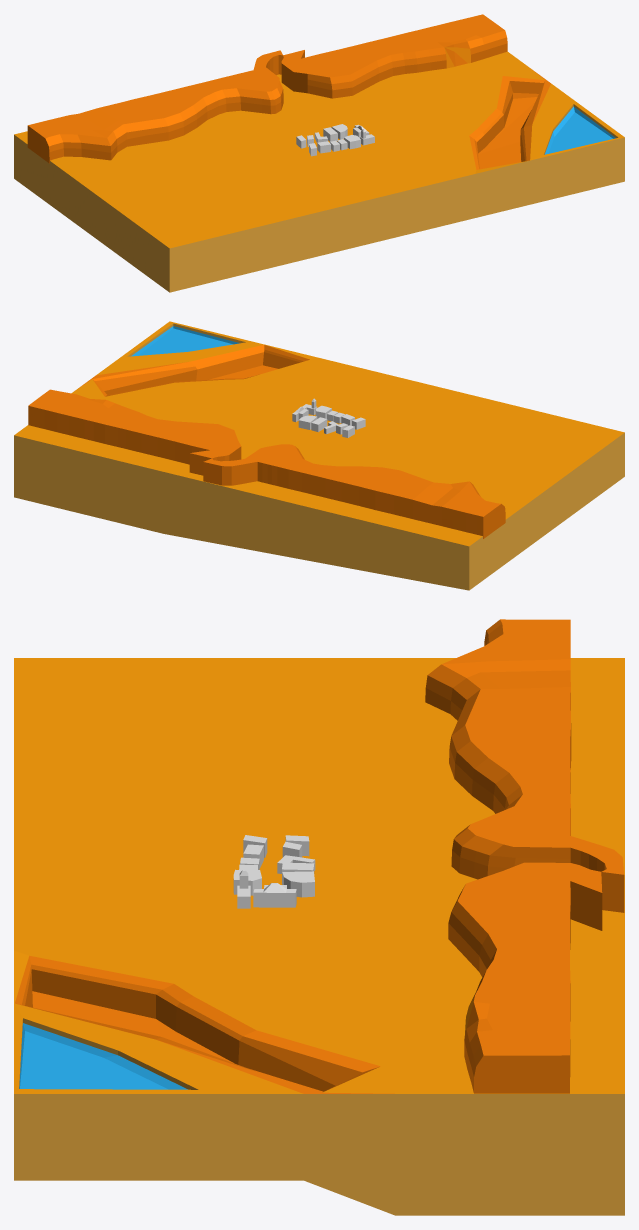
Rendered from MapMildWest 1.fbx.
3 views of the same model, one above another, from view 1: azimuth 30°, elevation 25°; view 2: azimuth 150°, elevation 25°; view 3: azimuth 270°, elevation 25° (orthographic). The views are drawn at different scales.
Parts seen in each view (by area): view 1: Plane.001, Cube.001, Cube; view 2: Plane.001, Cube.001, Cube; view 3: Plane.001, Cube.001, Cube.
Part boxes in pixels (x1,y1,x2,y2): Plane.001: (14,51,624,292); Cube.001: (27,14,507,163); Cube: (296,124,374,156); Plane.001: (14,321,624,590); Cube.001: (28,389,505,538); Cube: (292,398,365,437); Plane.001: (14,658,624,1215); Cube.001: (425,619,624,1093); Cube: (233,835,315,908).
Bounding box in the file's own units: 3358 × 581 × 1988.
Materials: 3 (2 with a texture image).
